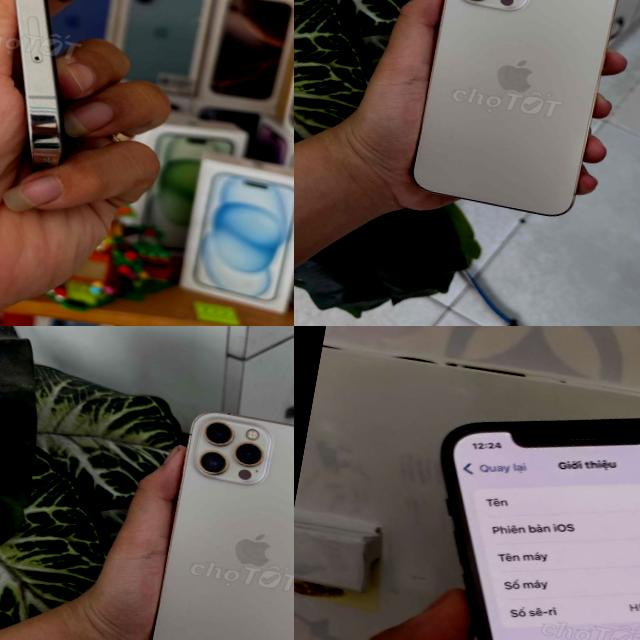gen_12_13: (368, 373, 640, 640), (0, 0, 120, 171)
gen_15: (401, 0, 630, 226), (139, 403, 294, 640)
